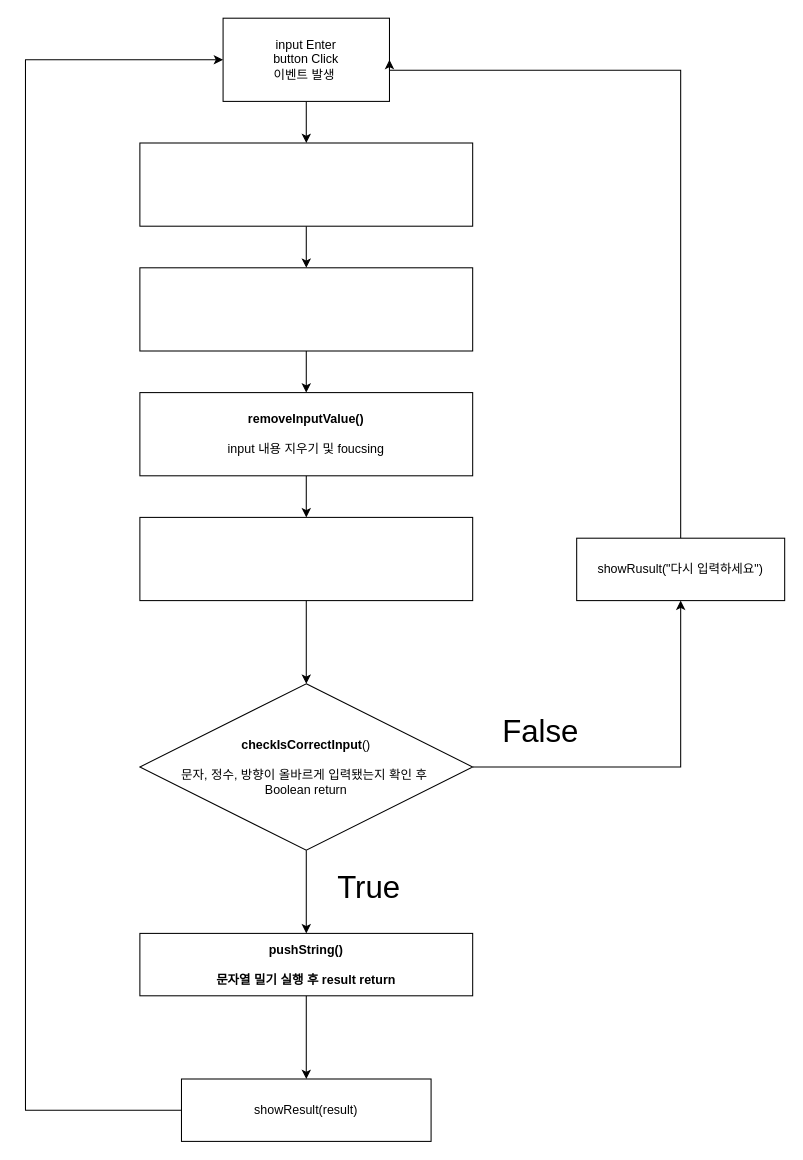
The diagram is 803 pixels wide and 1160 high, and some of its shapes have lost their labels. Here are the shapes that lost their labels. From the top down, the centre of each, then its label:
At (x=306, y=184): "startGame() 각종 필요한 메소드들 호출하며 게임 진행".
At (x=306, y=309): "getText() input의 value를 가져와서 return".
At (x=306, y=558): "convertTextToArray() getText()에서 가져온 text를 array로 변경".
